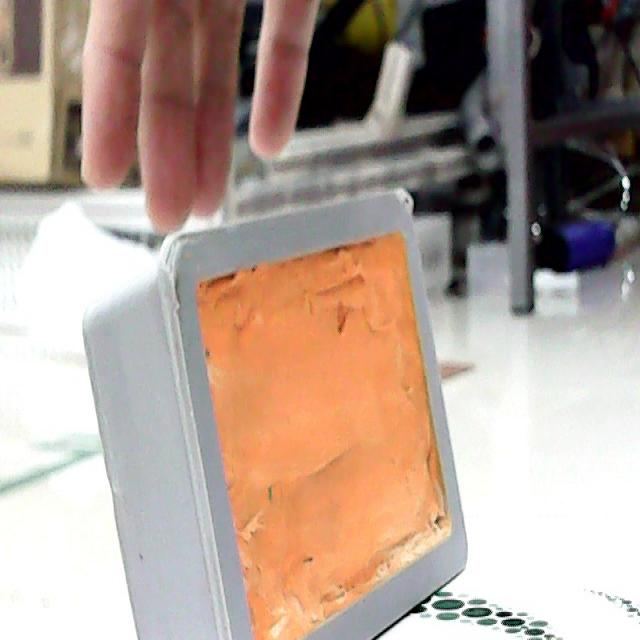block: (73, 185, 474, 640)
